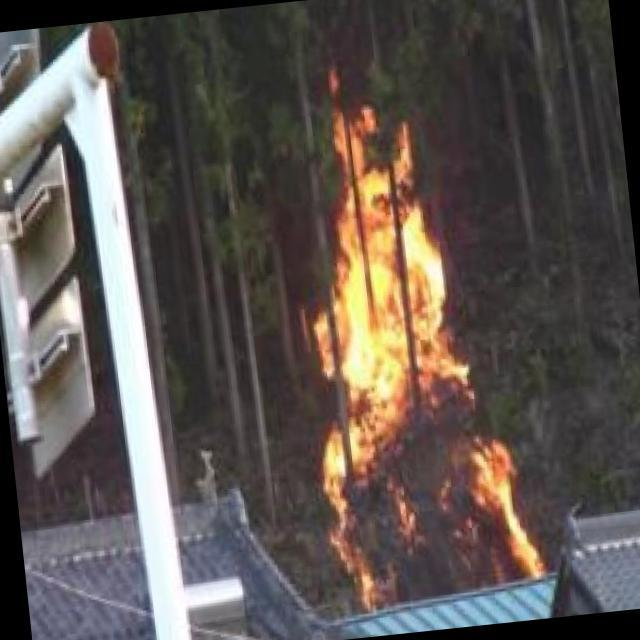Fire: (289, 79, 540, 615)
